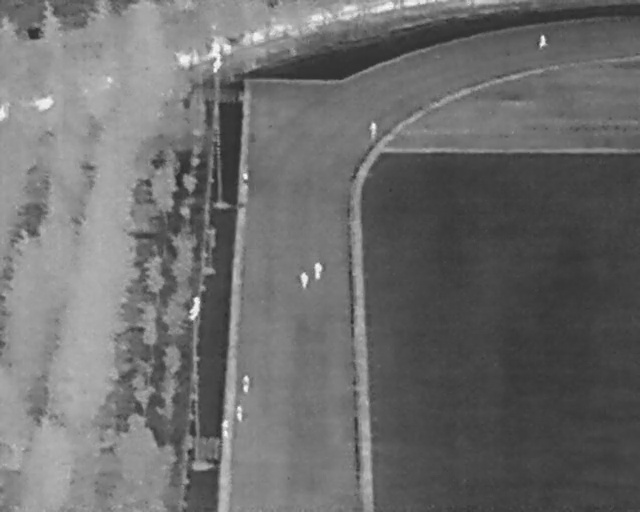Person: (368, 121, 378, 141), (242, 375, 251, 394), (314, 262, 323, 280), (300, 271, 309, 289), (236, 404, 244, 423), (539, 34, 548, 49), (222, 419, 229, 437), (242, 172, 249, 188)
